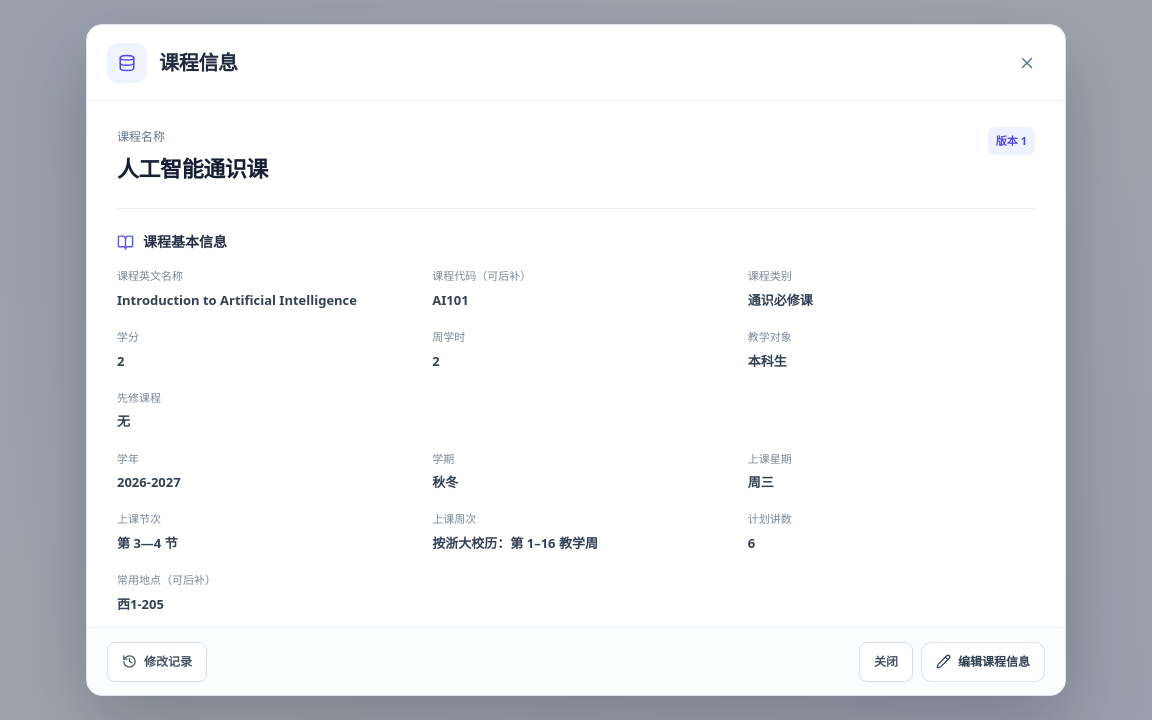
CourseBaselineDialog › 标准学期默认隐藏周次输入，特殊情况才让教师自定义
Click the button "编辑课程信息". click: (983, 662)
box: x1=921 y1=642 x2=1045 y2=682
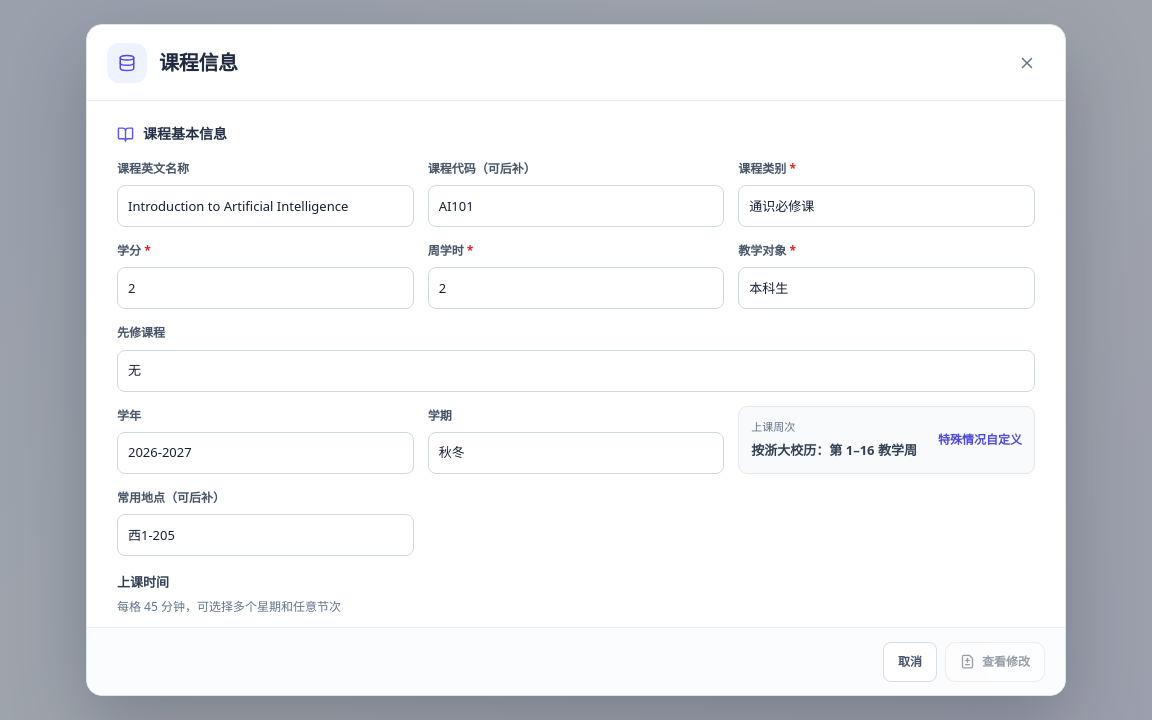
Check: the element with class "week-range-setting" shows "第 1–16 教学周", box x1=751 y1=441 x2=917 y2=459
Click the button "特殊情况自定义". click: (980, 440)
box: x1=938 y1=426 x2=1022 y2=453
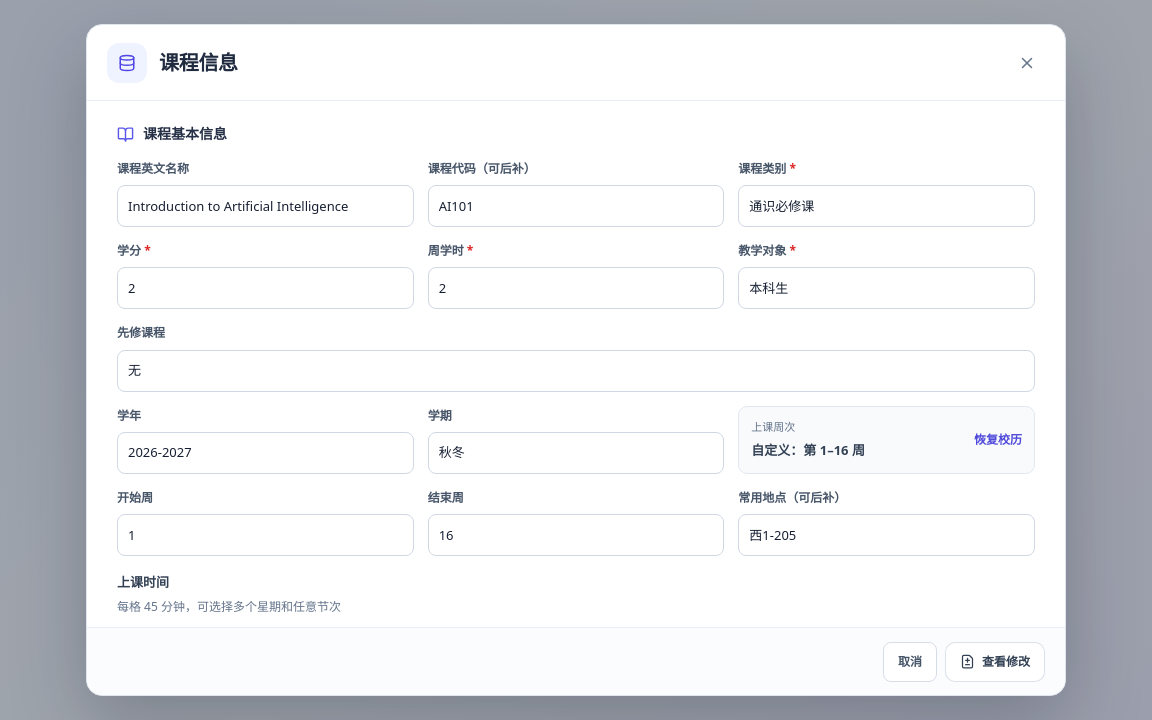
Check: the element with class "week-range-setting" shows "自定义", box x1=751 y1=441 x2=865 y2=459
Select "秋" in the dropdown labelled "学期". click: (576, 453)
box: x1=428 y1=432 x2=724 y2=474
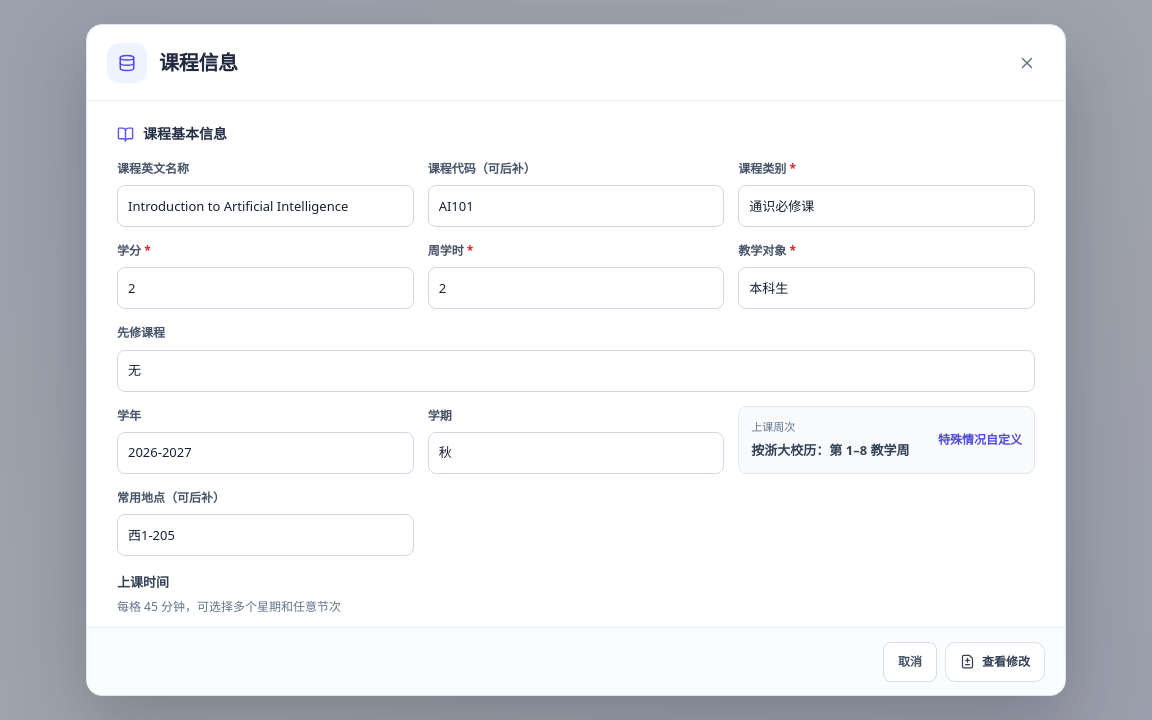
Check: the element with class "week-range-setting" shows "第 1–8 教学周", box x1=751 y1=441 x2=909 y2=459
